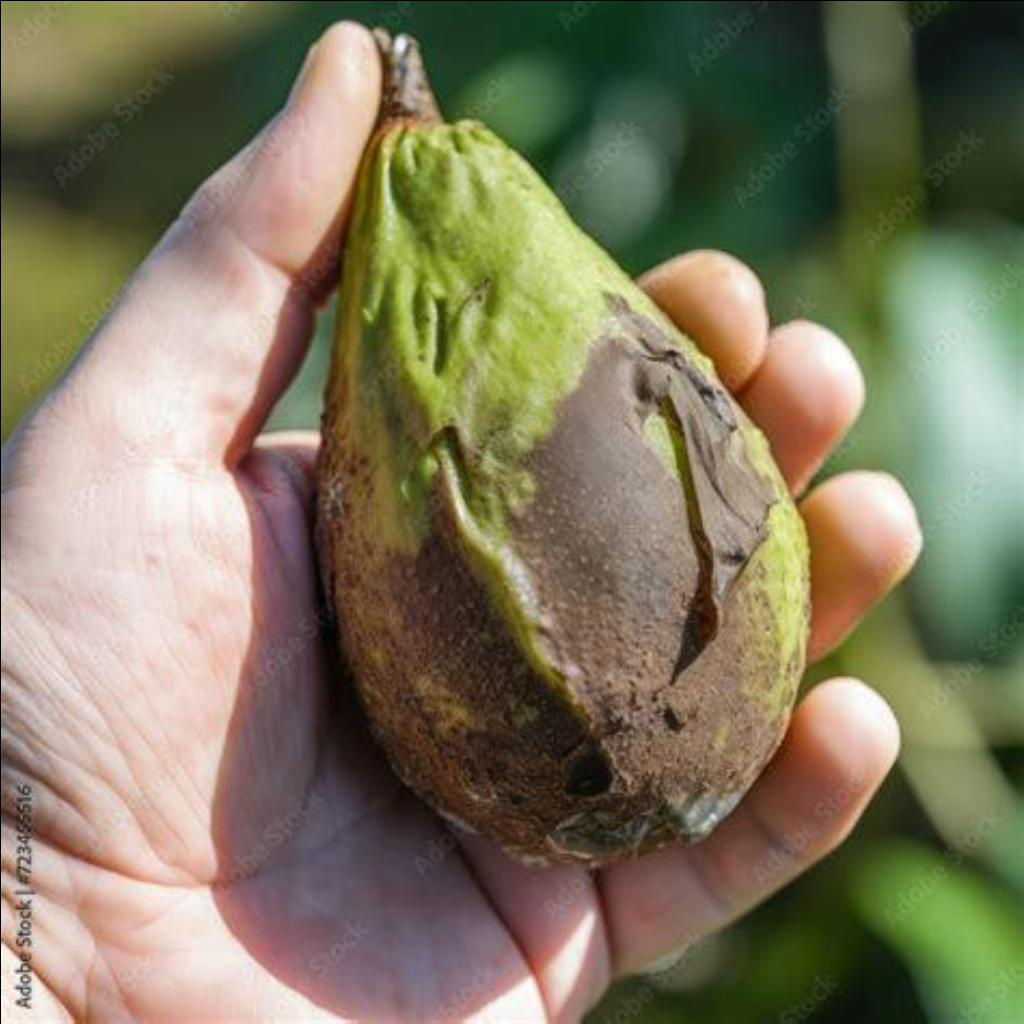Anthracnose: (314, 211, 810, 857)
